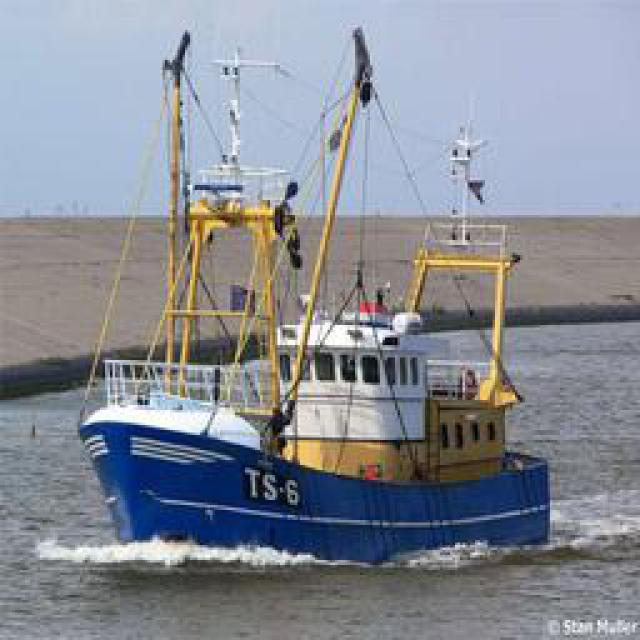Ship: (78, 17, 553, 555)
